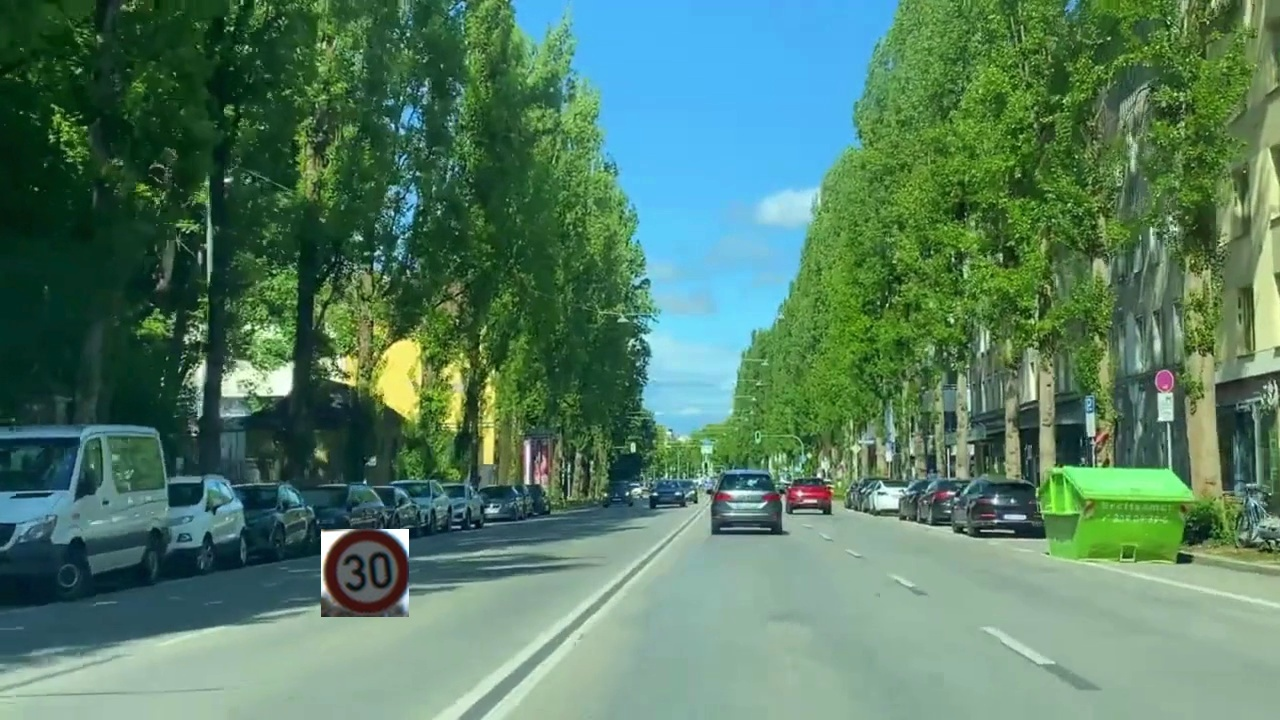Speed 30: (321, 529, 409, 617)
